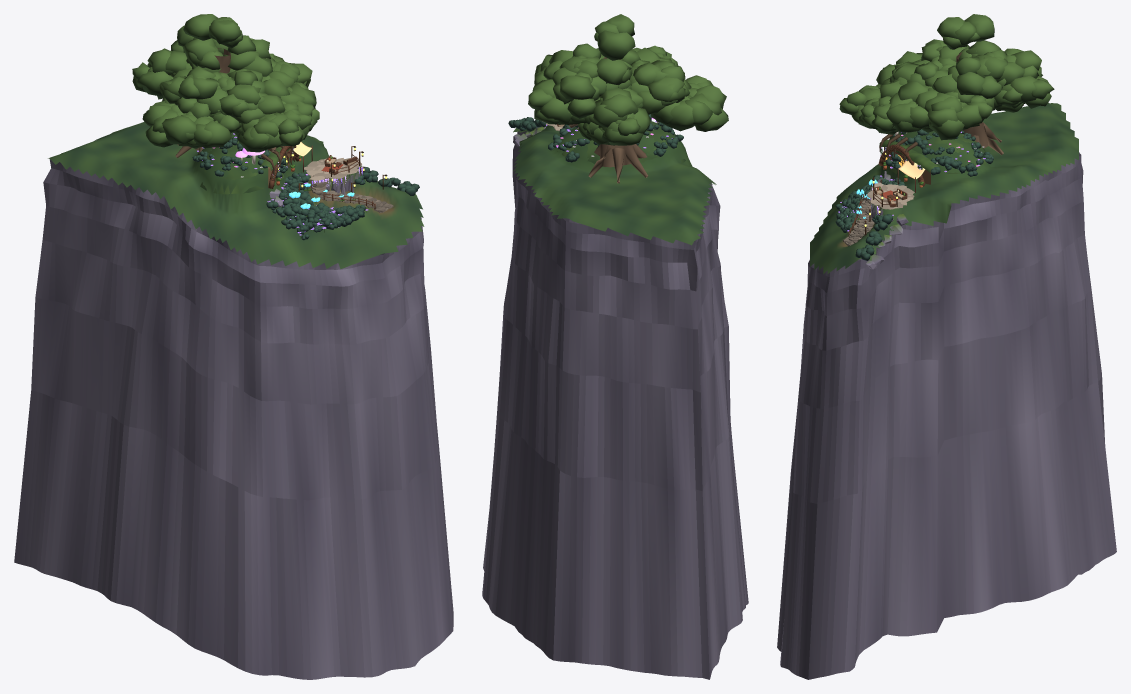
Rendered from terrace.glb.
The picture shows the model from 3 angles, left to right: view 1: azimuth 30°, elevation 25°; view 2: azimuth 150°, elevation 25°; view 3: azimuth 270°, elevation 25°; orthographic projection. The views are drawn at different scales.
Visible parts, largest first — view 1: hero_terrace_rock, hero_terrace_ground, hero_terrace_canopy, hero_terrace_leaf, hero_terrace_flag, hero_terrace_turf, terrace_timber; view 2: hero_terrace_rock, hero_terrace_canopy, hero_terrace_ground, hero_terrace_leaf, hero_terrace_bark, hero_terrace_turf; view 3: hero_terrace_rock, hero_terrace_canopy, hero_terrace_ground, hero_terrace_leaf, hero_terrace_flag, hero_terrace_bark, hero_terrace_turf, terrace_timber.
Part boxes in pixels (x1,y1,x2,y2): hero_terrace_rock: (14,159,453,679); hero_terrace_ground: (48,121,424,269); hero_terrace_canopy: (132,14,319,152); hero_terrace_leaf: (192,137,419,240); hero_terrace_flag: (304,158,393,212); hero_terrace_turf: (197,145,290,194); terrace_timber: (268,145,375,209); hero_terrace_rock: (482,126,748,679); hero_terrace_canopy: (528,14,728,145); hero_terrace_ground: (513,121,716,245); hero_terrace_leaf: (508,114,683,162); hero_terrace_bark: (569,57,648,183); hero_terrace_turf: (557,122,685,165); hero_terrace_rock: (777,152,1116,679); hero_terrace_canopy: (839,14,1054,140); hero_terrace_ground: (810,102,1078,273); hero_terrace_leaf: (835,129,993,260); hero_terrace_flag: (843,182,914,246); hero_terrace_bark: (879,52,1023,161); hero_terrace_turf: (879,134,986,178); terrace_timber: (848,144,925,236).
Bounding box in the file's own units: 57.46 × 105 × 53.93.
